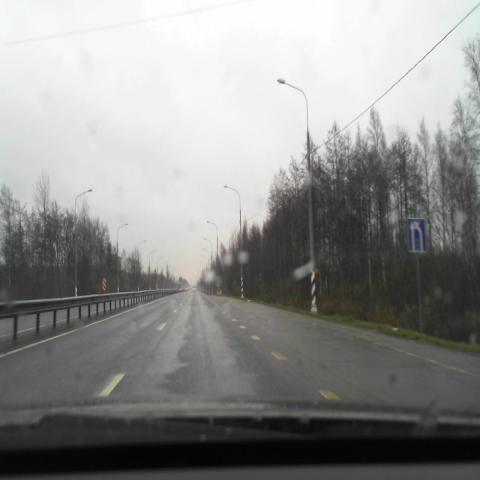5_15_5: (406, 218, 426, 251)
